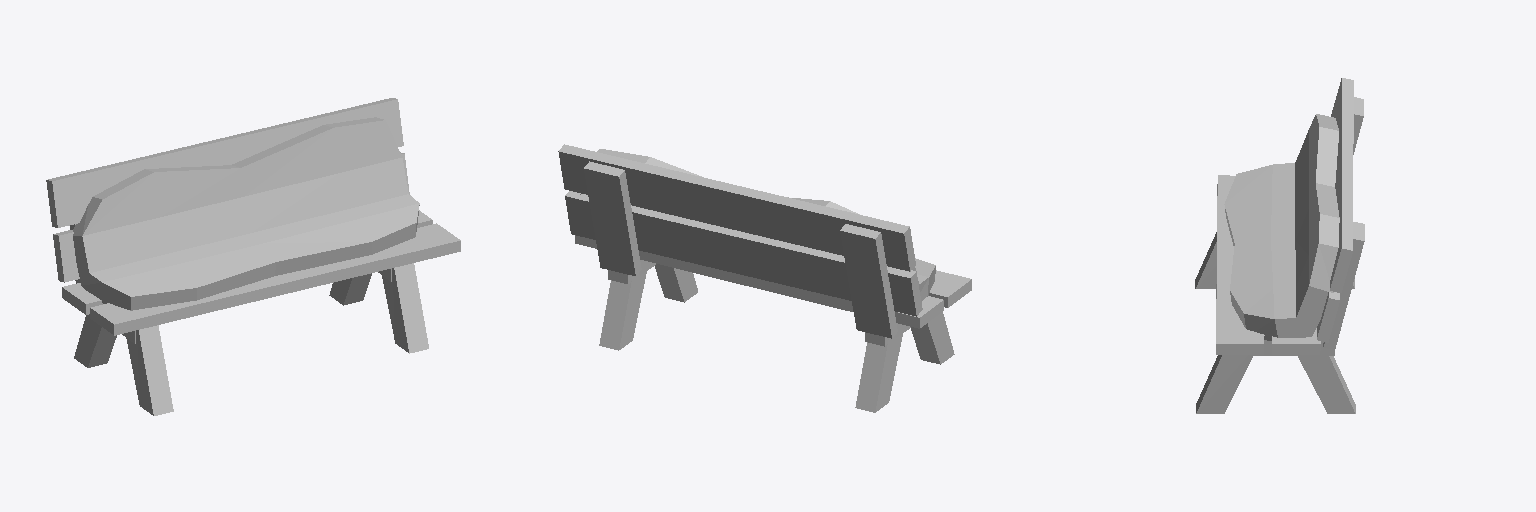
Rendered from bank_002.obj.
3 renders of one model, left to right at view 1: azimuth 30°, elevation 25°; view 2: azimuth 150°, elevation 25°; view 3: azimuth 270°, elevation 25°, orthographic.
Visible parts, largest first — view 1: StreetBranch_15; view 2: StreetBranch_15; view 3: StreetBranch_15.
Boxes of the visible parts, x1,y1,x2,y2 form: StreetBranch_15: [46, 98, 460, 415]; StreetBranch_15: [558, 144, 971, 412]; StreetBranch_15: [1195, 78, 1364, 413].
Size of the model in its own units: 11.83 by 6.15 by 5.01.